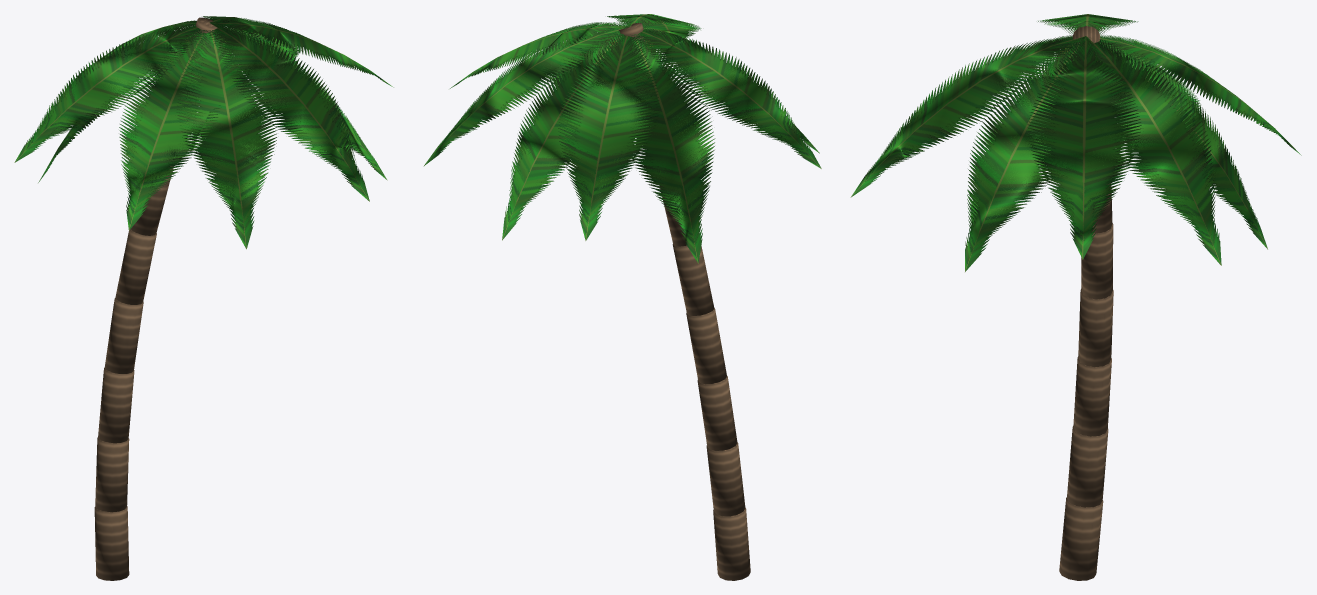
Rendered from Palm_A.fbx.
The picture shows the model from 3 angles, left to right: view 1: azimuth 30°, elevation 25°; view 2: azimuth 150°, elevation 25°; view 3: azimuth 270°, elevation 25°; orthographic projection. The views are drawn at different scales.
Parts seen in each view (by area): view 1: Palm_A; view 2: Palm_A; view 3: Palm_A.
Boxes of the visible parts, x1,y1,x2,y2 form: Palm_A: (14,16,393,580); Palm_A: (423,14,821,580); Palm_A: (850,14,1301,580).
Bounding box in the file's own units: 5.27 × 7.07 × 4.85.
